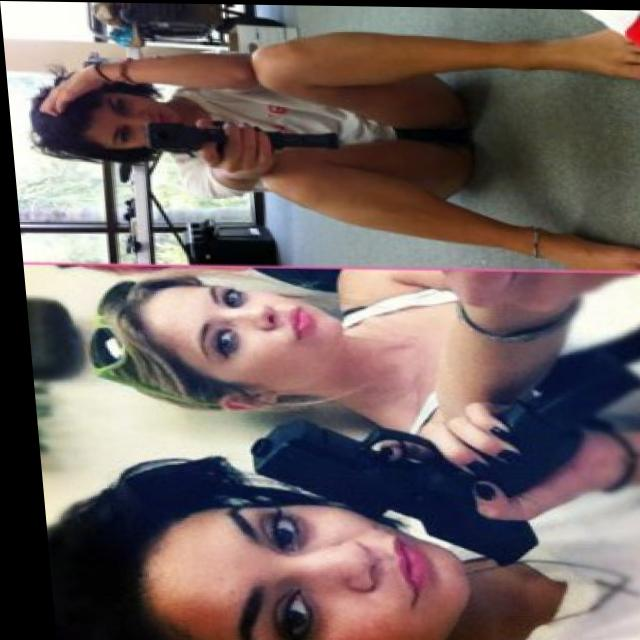handgun: (233, 344, 639, 569), (137, 123, 335, 158)
